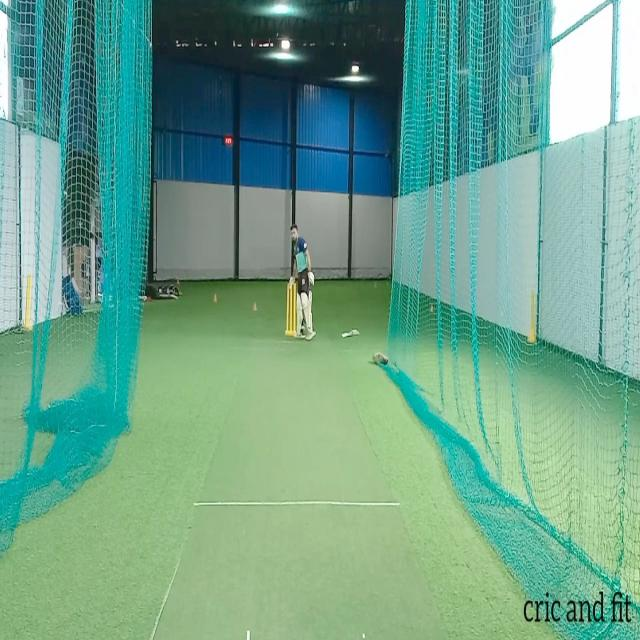batsman: (287, 222, 317, 342)
